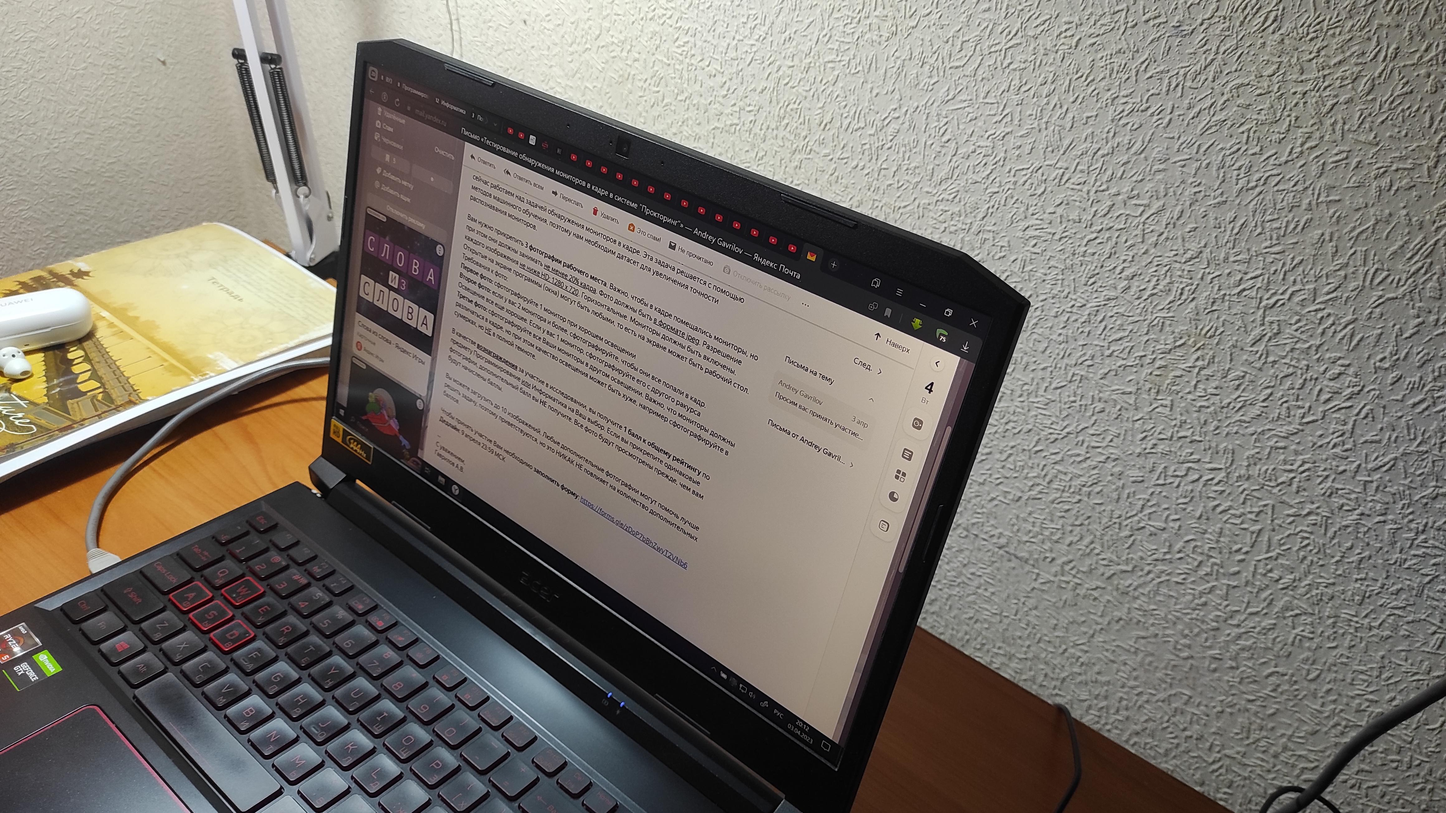monitor: (310, 31, 1047, 813)
